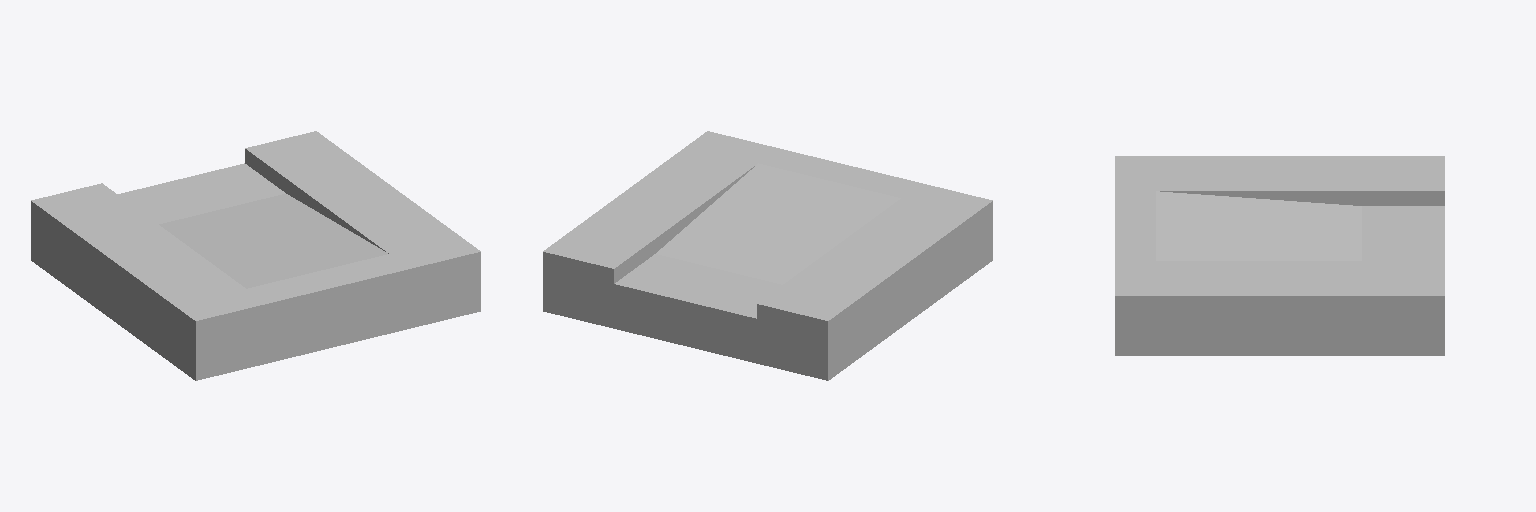
File: tile_riverTransition.obj
3 renders of one model, left to right at view 1: azimuth 30°, elevation 25°; view 2: azimuth 150°, elevation 25°; view 3: azimuth 270°, elevation 25°, orthographic.
Parts seen in each view (by area): view 1: tile_riverTransition; view 2: tile_riverTransition; view 3: tile_riverTransition.
Boxes of the visible parts, x1,y1,x2,y2 form: tile_riverTransition: [31, 131, 480, 380]; tile_riverTransition: [543, 131, 992, 380]; tile_riverTransition: [1115, 156, 1444, 355].
Bounding box in the file's own units: 1 × 0.2 × 1.